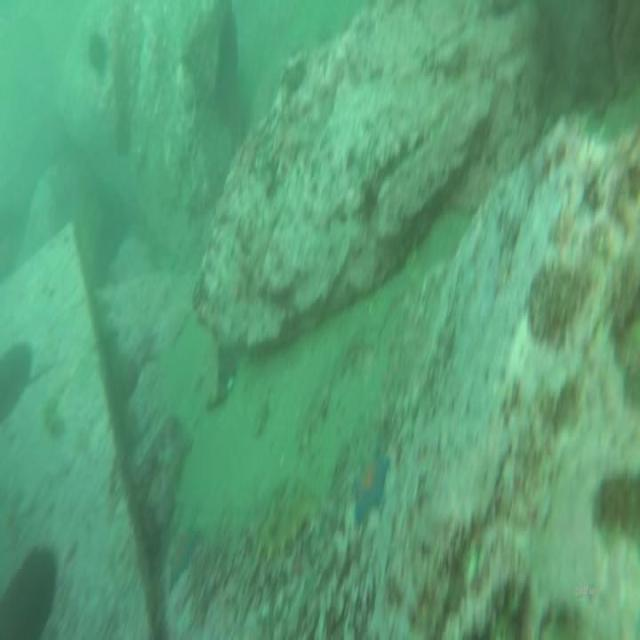echinus: (87, 35, 107, 74)
holothurian: (251, 495, 321, 569)
starfish: (348, 444, 391, 525), (164, 528, 201, 592)
